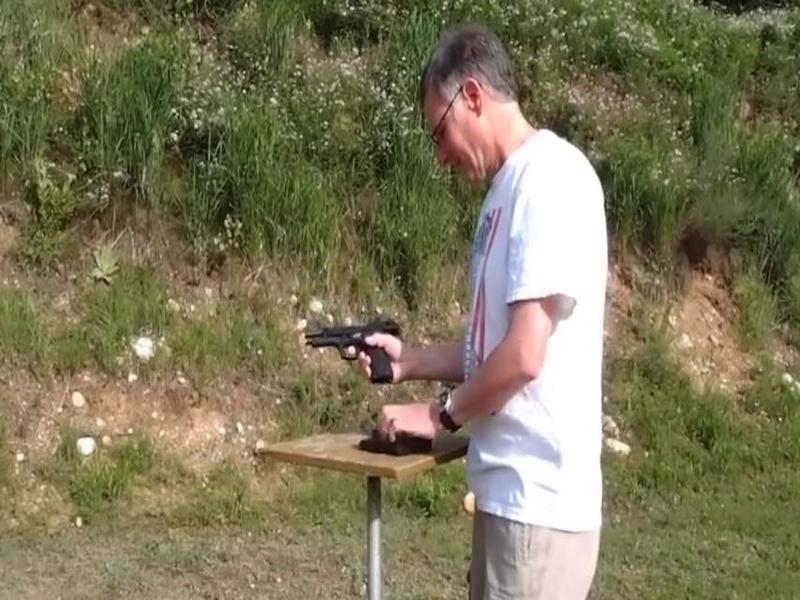Pistola: (290, 307, 413, 406)
